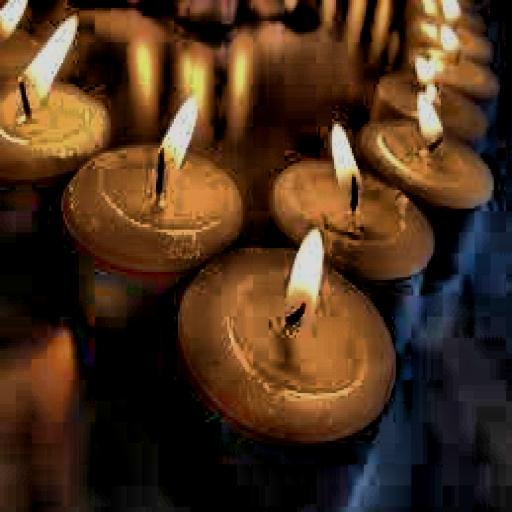fire: (14, 8, 81, 121), (152, 92, 206, 190), (281, 222, 330, 327), (322, 113, 374, 206), (413, 87, 445, 151)
